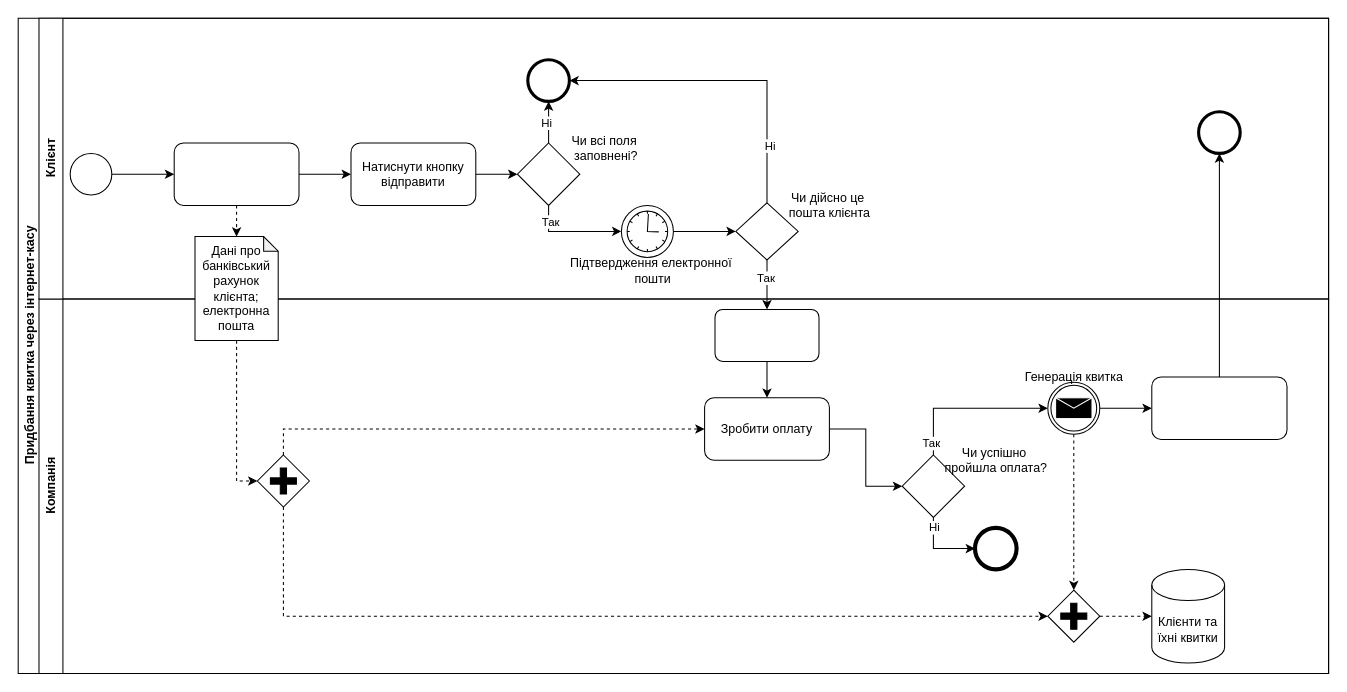
This 1347x692 diagram has some shape labels left out. The shapes that lost their labels are listed below. From the top down, each one's centre as x and y in pixels, then its label:
the point at 236,173: Ввести дані
the point at 766,334: Відправити дані на сервер компанії
the point at 1219,407: Відправити квиток на електрону пошту клієнта
